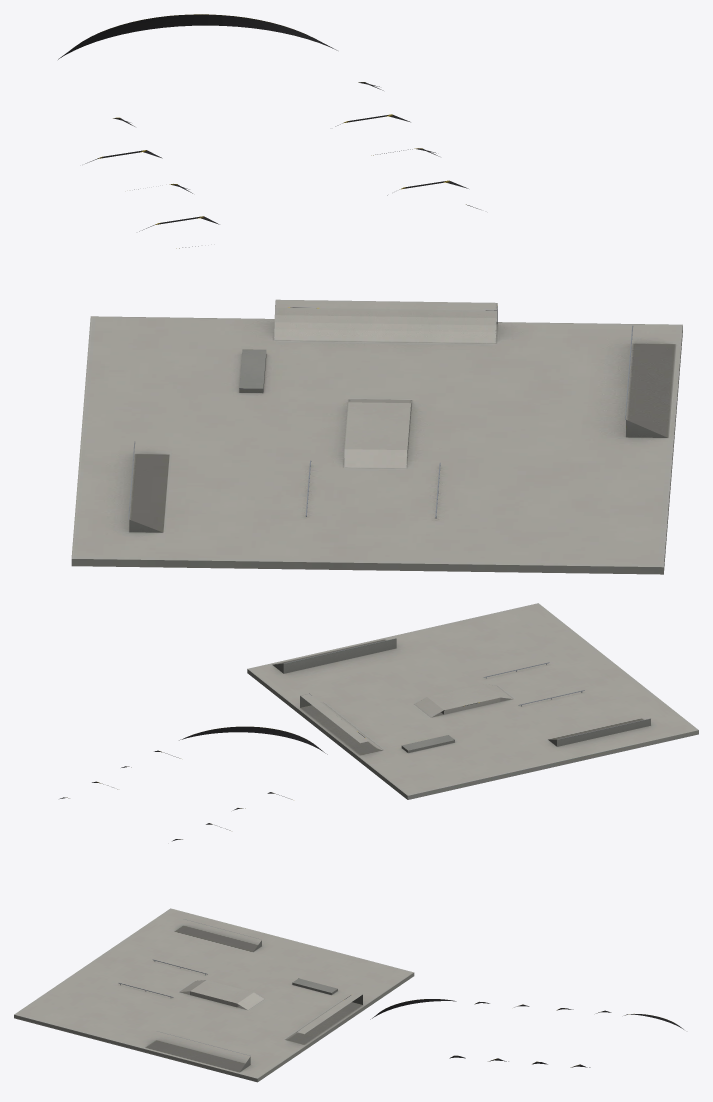
File: lybed_skatepark.glb
The picture shows the model from 3 angles, top to bottom: view 1: azimuth 30°, elevation 25°; view 2: azimuth 150°, elevation 25°; view 3: azimuth 270°, elevation 25°; orthographic projection. The views are drawn at different scales.
Visible parts, largest first — view 1: lybed_skatepark; view 2: lybed_skatepark; view 3: lybed_skatepark.
Boxes of the visible parts, <box> form: lybed_skatepark: <box>58,14,682,574</box>; lybed_skatepark: <box>60,603,698,841</box>; lybed_skatepark: <box>14,908,683,1082</box>.
Size of what is drawn, in the model's own units: 45.34 by 1.72 by 73.98.
Materials: 3 (3 with a texture image).
